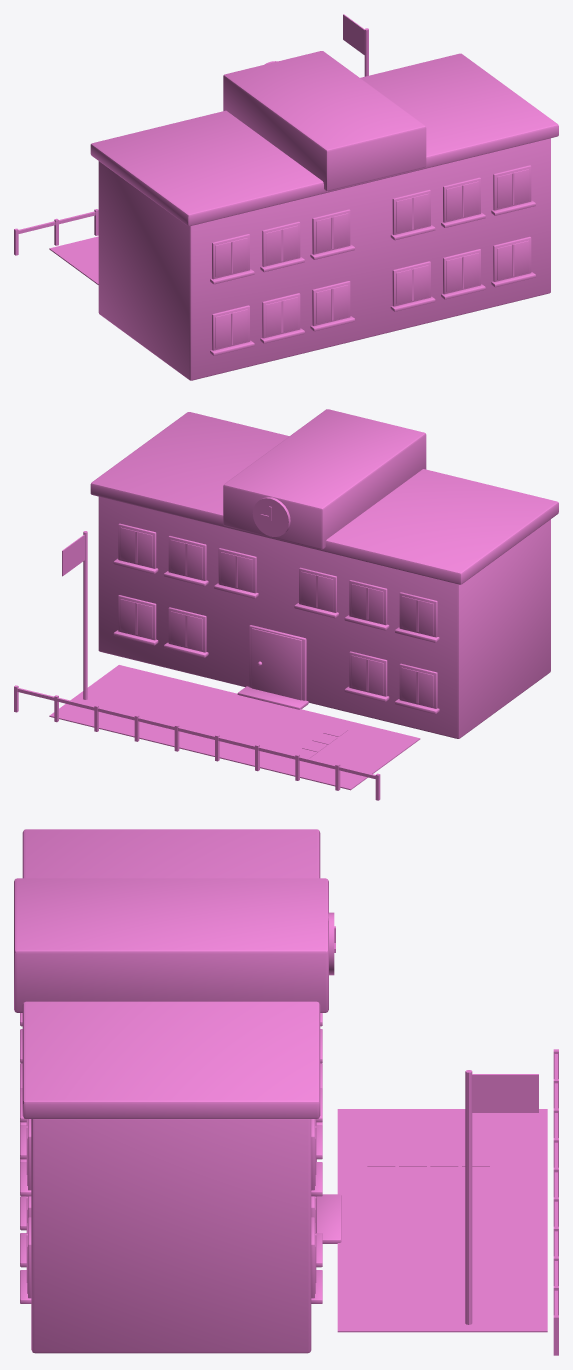
The model's file is Suburbs_School.fbx.
The picture shows the model from 3 angles, top to bottom: view 1: azimuth 30°, elevation 25°; view 2: azimuth 150°, elevation 25°; view 3: azimuth 270°, elevation 25°; orthographic projection. The views are drawn at different scales.
Parts seen in each view (by area): view 1: Body, Paint; view 2: Body, Paint; view 3: Body, Paint.
Part boxes in pixels (x1,y1,x2,y2): Body: (14, 14, 558, 355); Paint: (98, 138, 550, 380); Body: (14, 409, 558, 800); Paint: (98, 496, 550, 738); Body: (14, 829, 558, 1355); Paint: (31, 1119, 311, 1353).
Size of the model in its own units: 37 by 19.55 by 31.15.
1 material, 1 textured.
